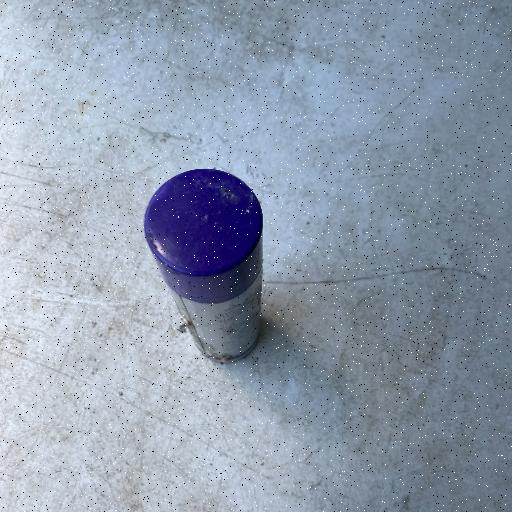Metal: (142, 166, 266, 364)
